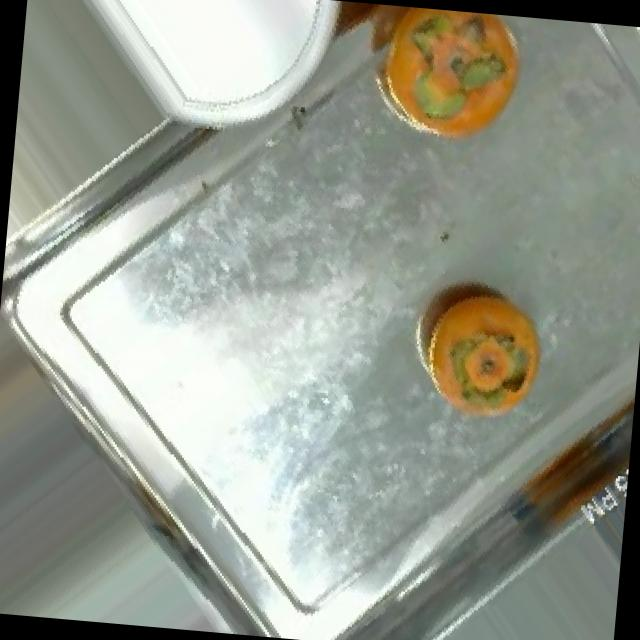Fruit: (390, 250, 566, 450), (357, 3, 546, 170)
